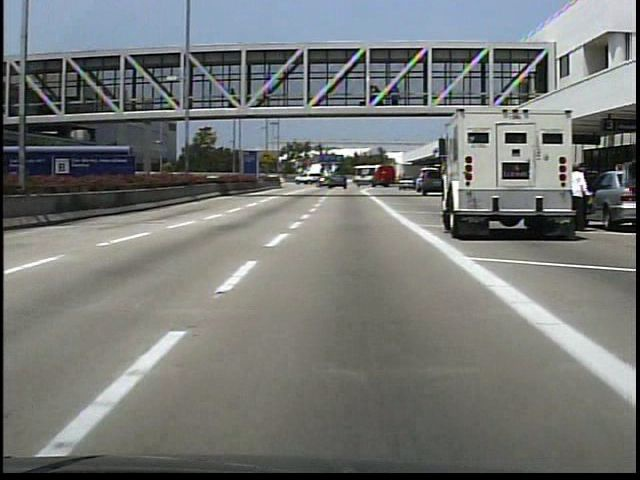person: (569, 156, 590, 231)
